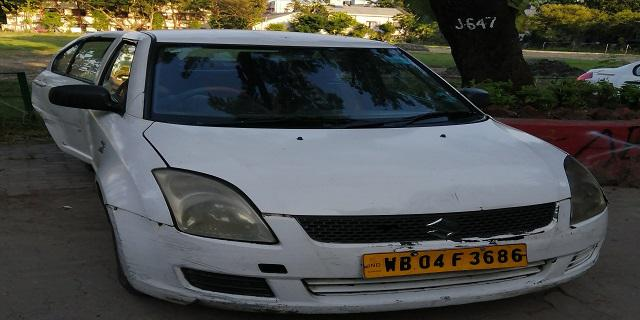Car: (29, 20, 609, 305)
